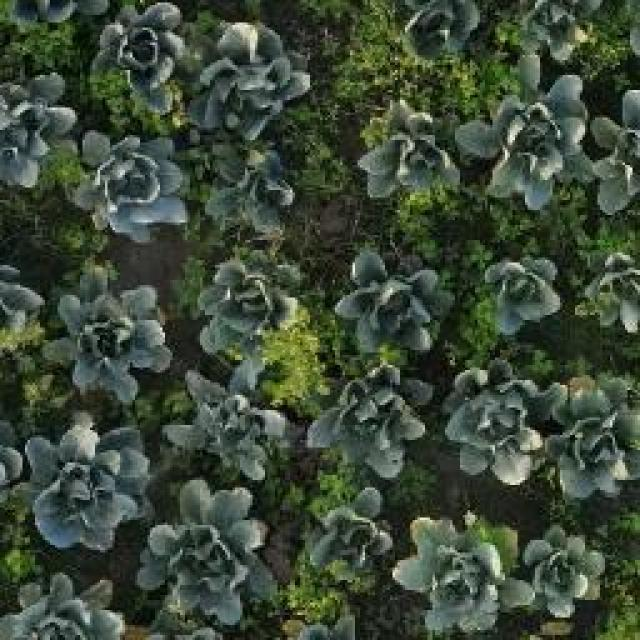cabbage: (461, 60, 595, 200), (394, 510, 531, 632), (147, 485, 268, 623), (49, 270, 170, 395), (31, 420, 147, 549), (443, 365, 561, 479), (173, 362, 288, 478), (312, 365, 427, 480), (198, 15, 308, 133), (549, 371, 640, 505), (77, 130, 186, 234), (95, 0, 194, 112), (339, 250, 442, 357), (358, 99, 464, 202), (201, 262, 315, 353), (206, 142, 306, 242), (0, 572, 130, 640), (471, 247, 561, 343), (0, 70, 75, 185), (308, 488, 392, 580), (524, 527, 609, 614), (511, 0, 608, 61), (395, 0, 477, 70), (572, 255, 640, 333)
